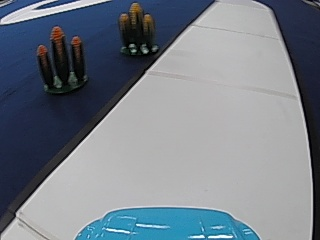corn: (37, 26, 88, 95), (118, 1, 158, 57)
